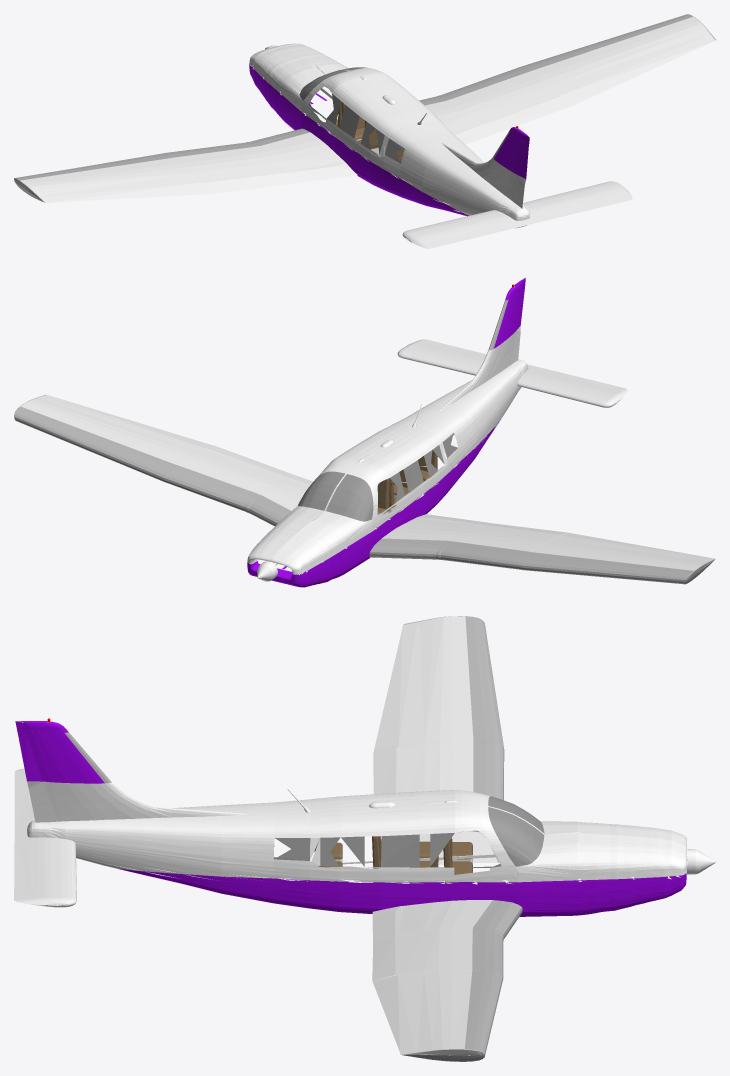
Rendered from PropJetNoPropNoGear_Alan.glb.
3 views of the same model, one above another, from view 1: azimuth 30°, elevation 25°; view 2: azimuth 150°, elevation 25°; view 3: azimuth 270°, elevation 25° (orthographic). The views are drawn at different scales.
Parts seen in each view (by area): view 1: Imported_DXF_Object_lib; view 2: Imported_DXF_Object_lib; view 3: Imported_DXF_Object_lib.
Part boxes in pixels (bbox=[...]): Imported_DXF_Object_lib: bbox=[14, 14, 715, 248]; Imported_DXF_Object_lib: bbox=[14, 277, 715, 587]; Imported_DXF_Object_lib: bbox=[14, 616, 715, 1061].
Size of the model in its own units: 13.11 by 2.55 by 8.97.
